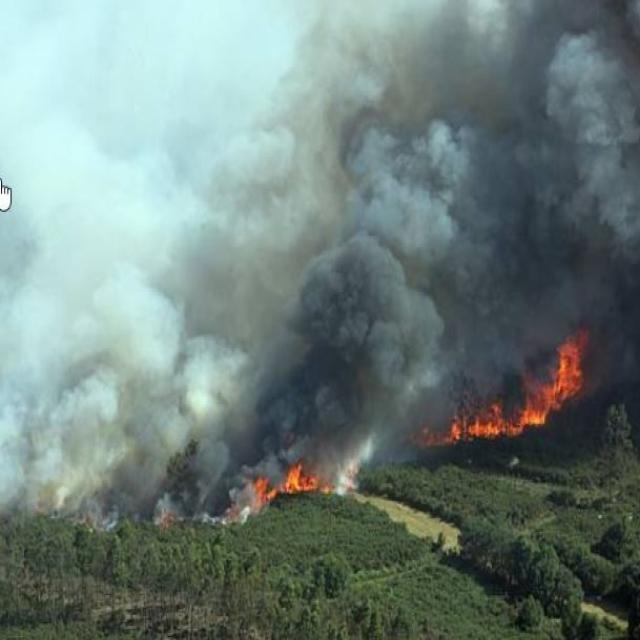Fire: (429, 398, 552, 447), (227, 464, 337, 506)
Smoke: (3, 0, 640, 497)
